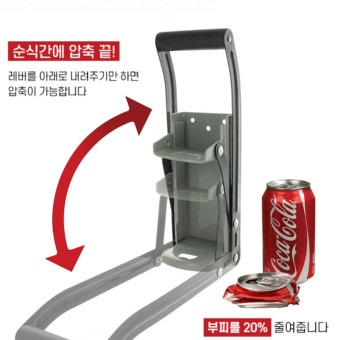paper: (261, 180, 317, 284), (226, 273, 301, 310)
